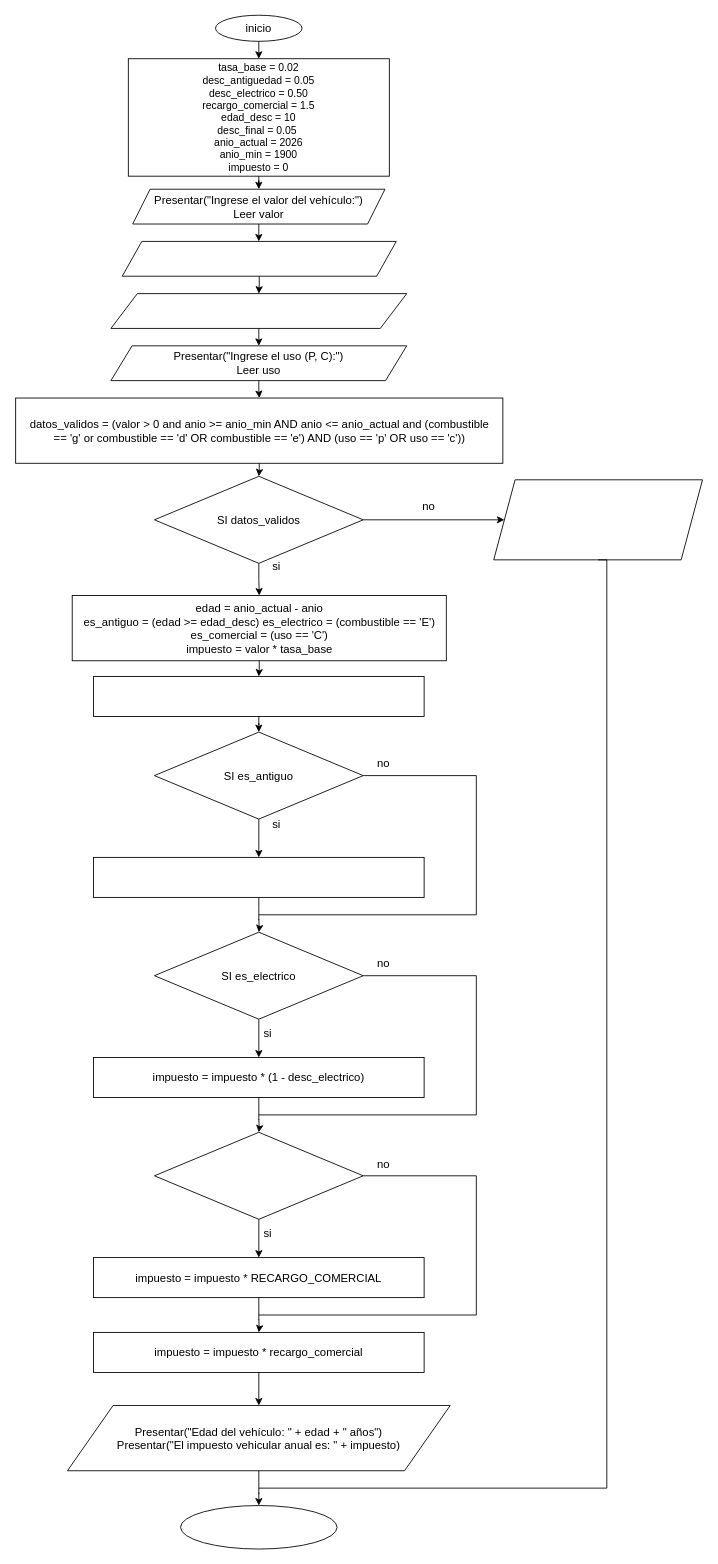
The diagram is 718 pixels wide and 1564 high, and some of its shapes have lost their labels. The shapes that lost their labels are listed below. From the top down, each one's centre as x and y in pixels, then its label:
[258,258]: Presentar("Ingrese el año de fabricación:") Leer anio
[258,310]: Presentar("Ingrese el combustible (G, D, E):") Leer combustible
[598,519]: Presentar("Error: datos inválidos. Revise valor, año, combustible y uso.")
[258,696]: impuesto = valor * tasa_base
[258,877]: mpuesto = impuesto * (1 - desc_antiguedad)
[258,1175]: SI es_comercial
[258,1527]: fin
